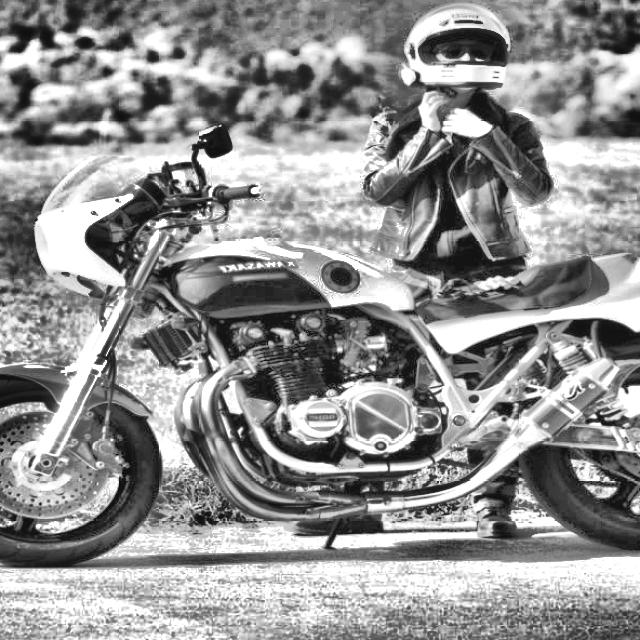Helmet: (397, 0, 514, 97)
